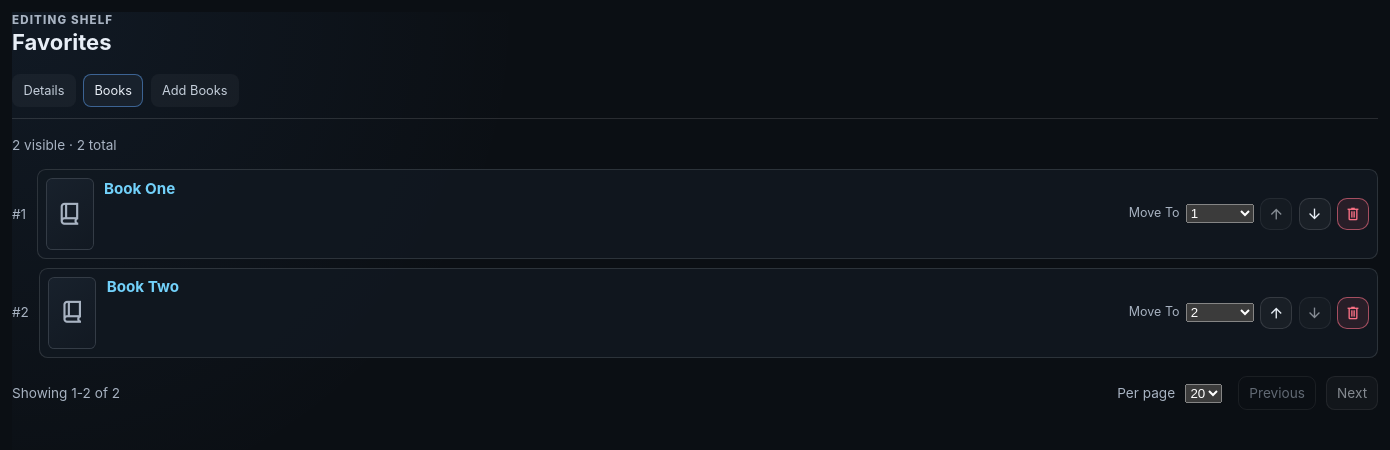
Test case: ShelfEditOrchestrator item mutations › moves an item, locks conflicting commands, and reloads authoritative order
Click the button named "Move Book One down" at (1315, 214), box [1299,198,1331,230]
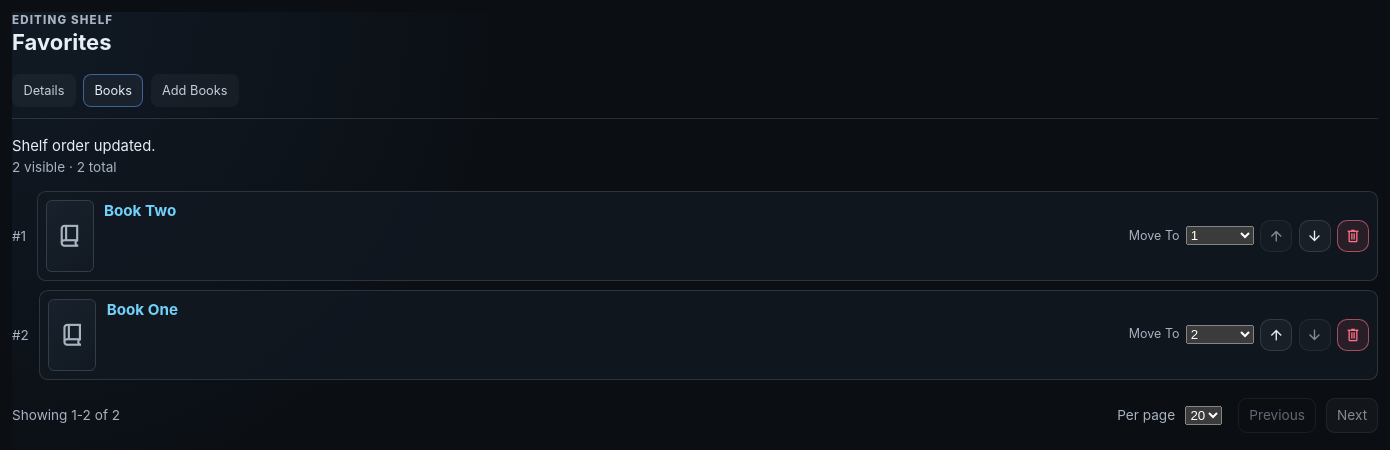
Result: the button named "Move Book Two up" is disabled at [1260,220,1292,252]
